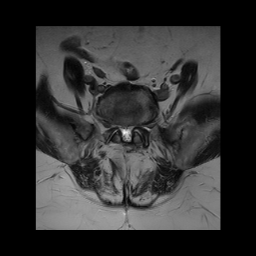CCS_normal: (124, 118, 129, 150)
LFS_severe_stenosis: (134, 116, 139, 135)
LLS_stenosis: (129, 118, 134, 139)
RFS_severe_stenosis: (113, 115, 119, 135)
RLS_normal: (119, 119, 124, 140)
